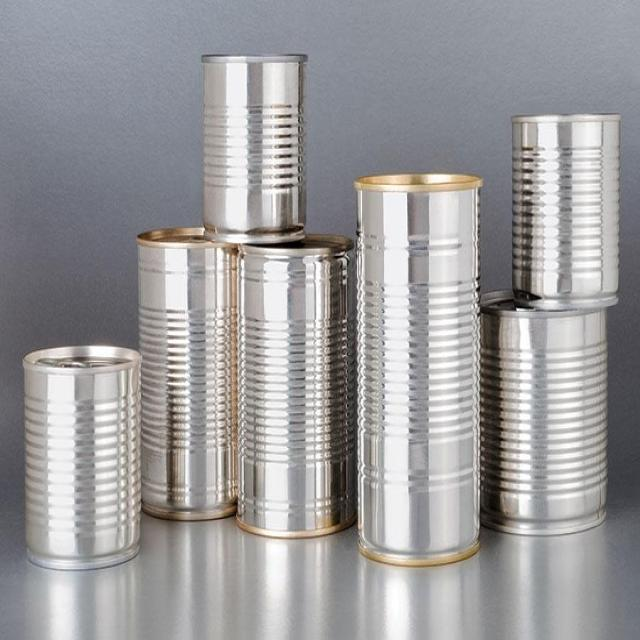metel: (356, 163, 484, 565), (478, 262, 611, 545), (238, 241, 361, 542), (136, 218, 247, 521), (15, 336, 148, 568), (505, 103, 629, 326), (199, 49, 310, 245)
